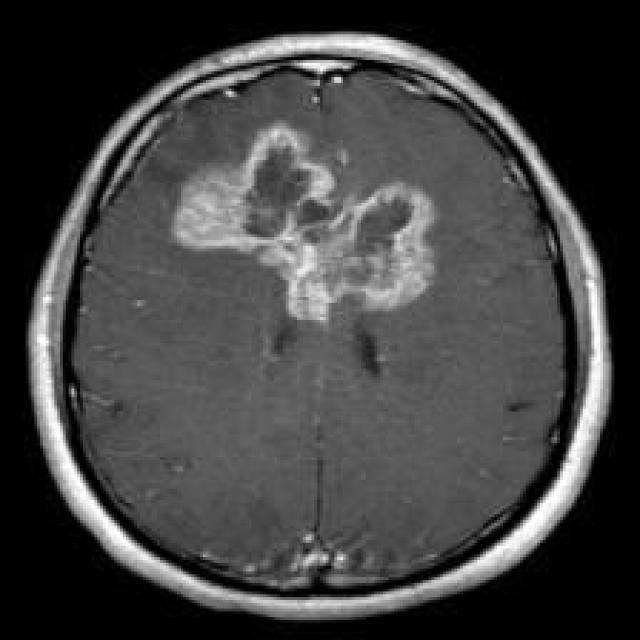Tumor: (174, 126, 437, 321)
